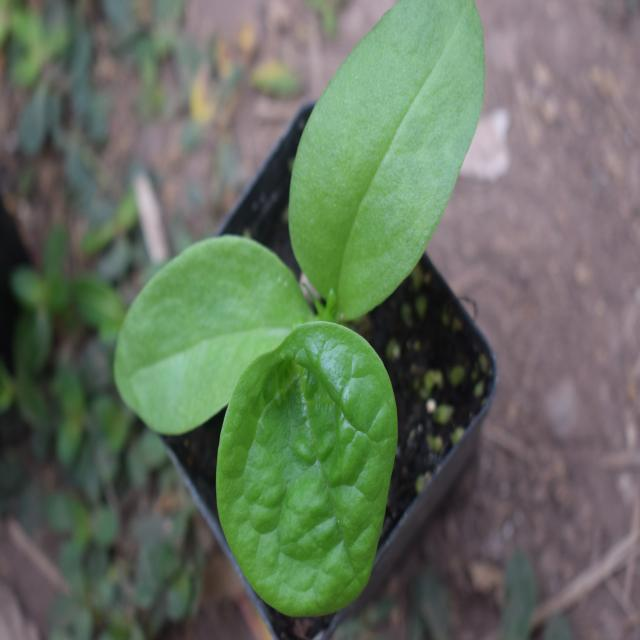Ceylon spinach: (112, 0, 464, 598)
